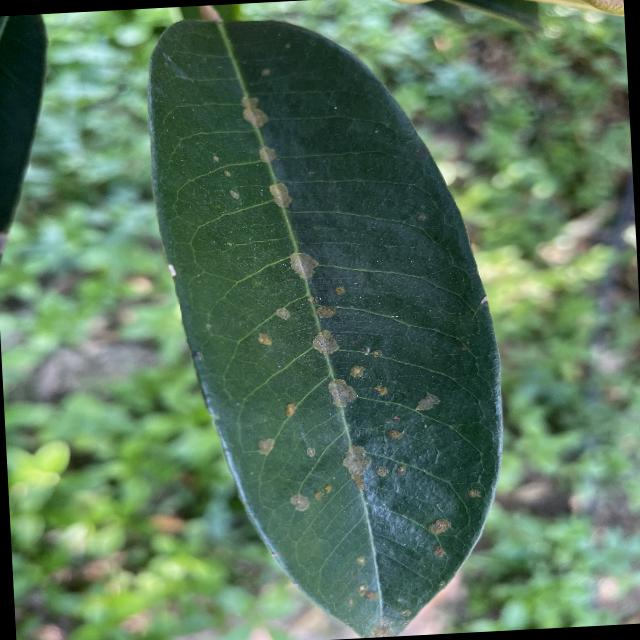Algal Leaf Spot: (138, 0, 525, 639)
